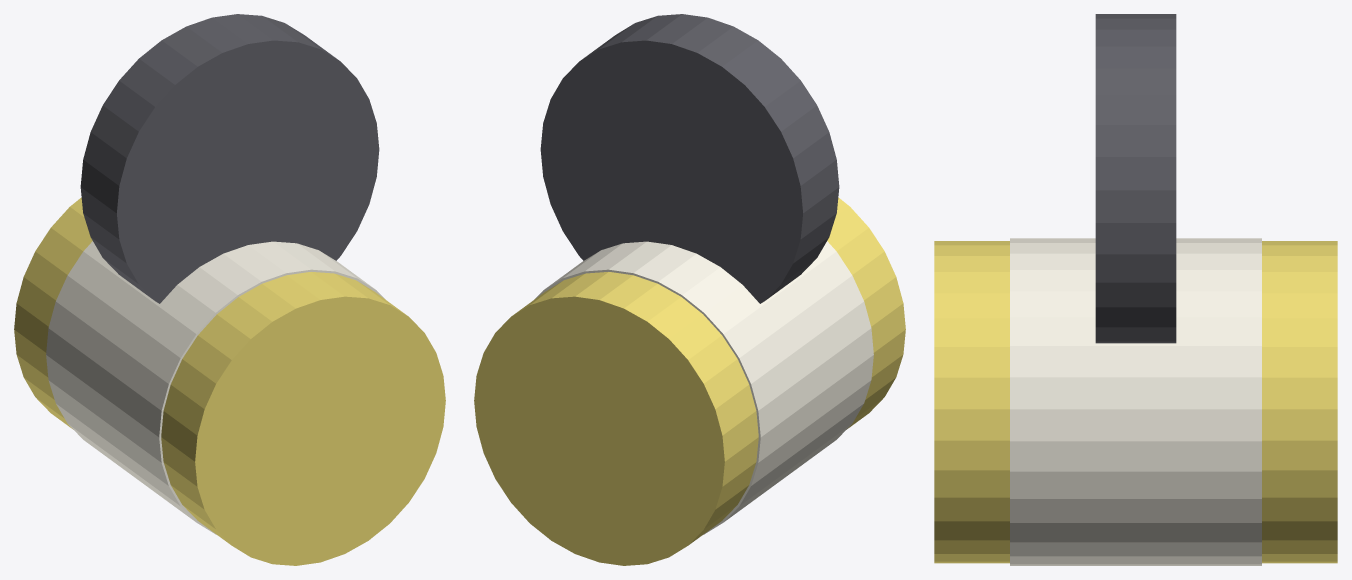
The model's file is condiment-jar.glb.
The picture shows the model from 3 angles, left to right: view 1: azimuth 30°, elevation 25°; view 2: azimuth 150°, elevation 25°; view 3: azimuth 270°, elevation 25°; orthographic projection. The views are drawn at different scales.
Parts seen in each view (by area): view 1: condiment_body, condiment_lid, condiment_label; view 2: condiment_body, condiment_lid, condiment_label; view 3: condiment_label, condiment_body, condiment_lid.
Boxes of the visible parts, bbox=[...] form: condiment_body: bbox=[14, 197, 445, 565]; condiment_lid: bbox=[80, 14, 379, 303]; condiment_label: bbox=[46, 241, 385, 534]; condiment_body: bbox=[474, 197, 905, 565]; condiment_lid: bbox=[540, 14, 839, 303]; condiment_label: bbox=[534, 241, 873, 534]; condiment_label: bbox=[1010, 238, 1261, 565]; condiment_body: bbox=[934, 241, 1337, 563]; condiment_lid: bbox=[1095, 14, 1176, 343].
Bounding box in the file's own units: 0.067 × 0.114 × 0.08.
